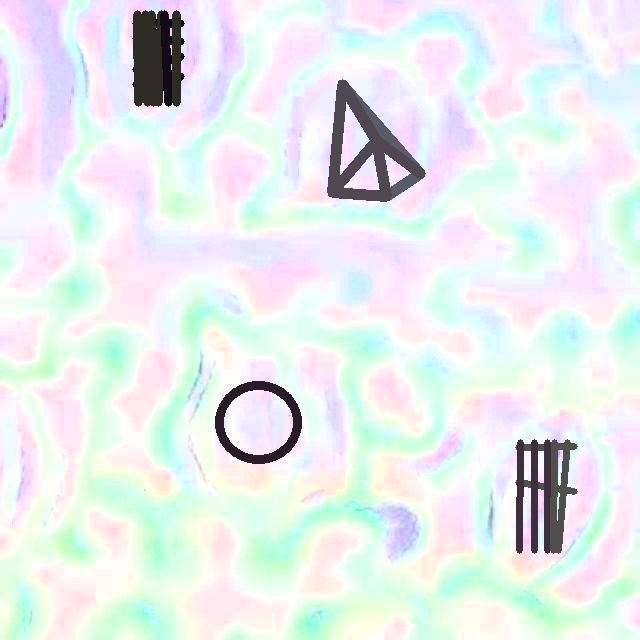close: (328, 80, 424, 200), (214, 381, 303, 464)
open: (516, 439, 577, 552), (133, 11, 183, 105)
